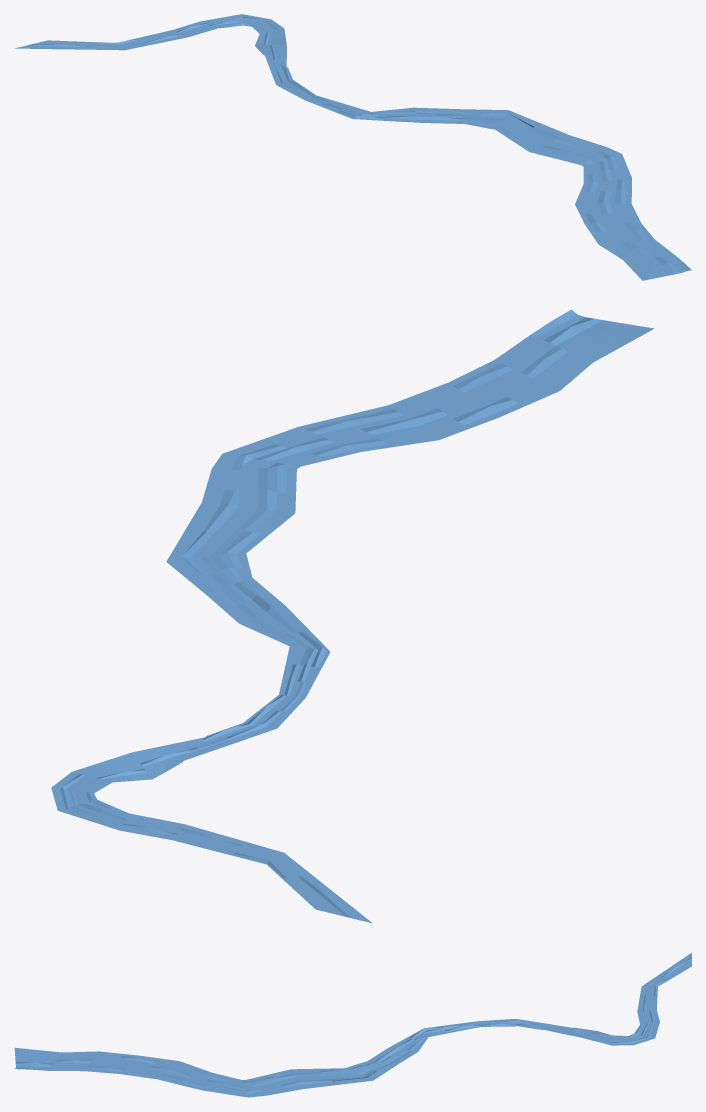
Rendered from River.fbx.
3 views of the same model, one above another, from view 1: azimuth 30°, elevation 25°; view 2: azimuth 150°, elevation 25°; view 3: azimuth 270°, elevation 25° (orthographic). The views are drawn at different scales.
Parts seen in each view (by area): view 1: polySurface3; view 2: polySurface3; view 3: polySurface3.
Part boxes in pixels (x1,y1,x2,y2): polySurface3: (14, 14, 691, 280); polySurface3: (51, 309, 654, 923); polySurface3: (14, 952, 691, 1097).
Size of the model in its own units: 133 by 1.43 by 262.
